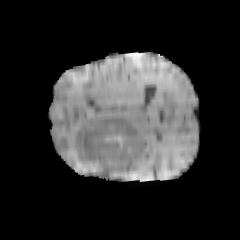glioma: (74, 116, 147, 173)
